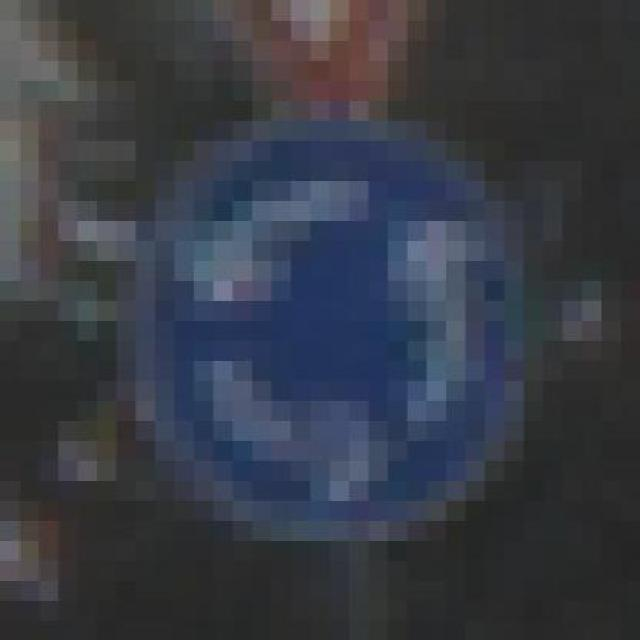Round-About: (97, 100, 563, 560)
